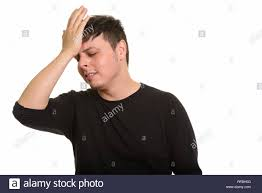white_male: (69, 29, 126, 84)
